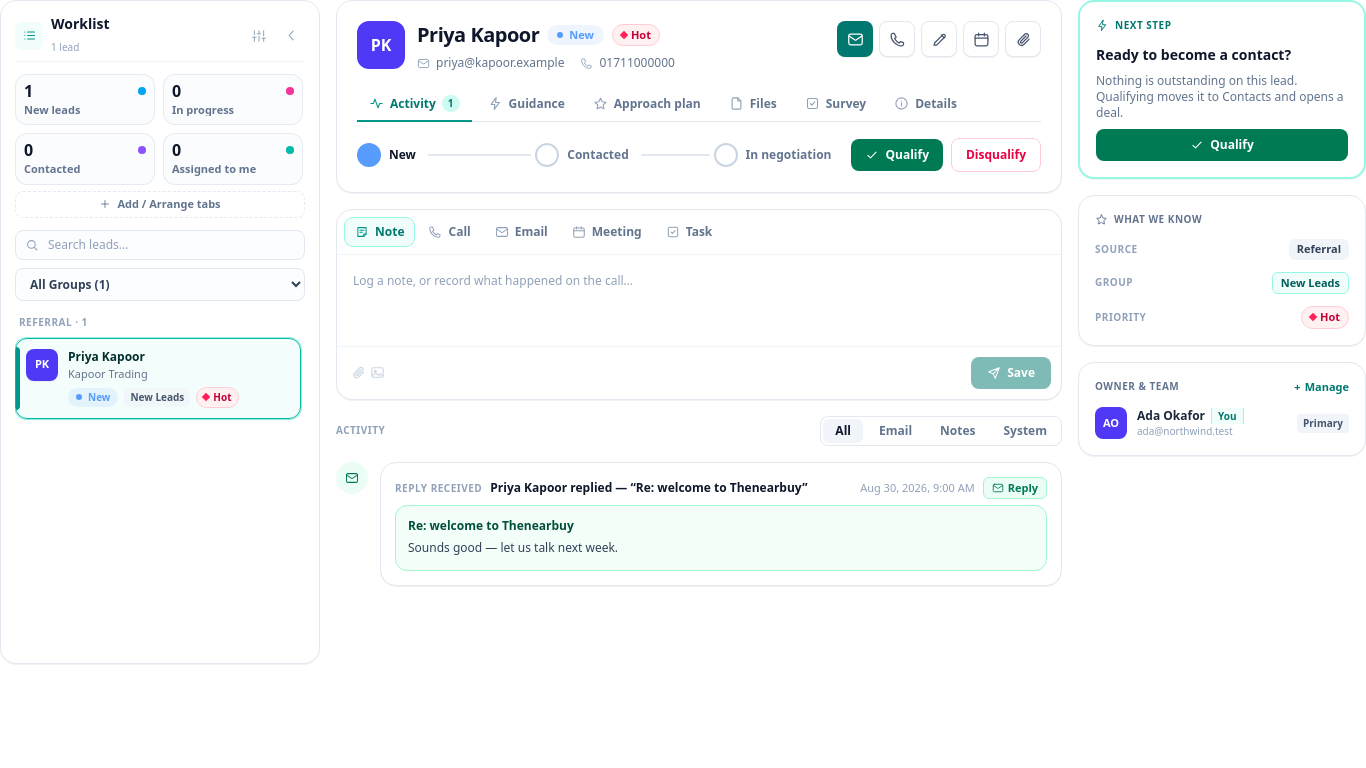
it: LeadWorkspace › the Activity feed › shows a received reply as its own entry and opens a threaded reply from it
Check: the text "Priya Kapoor replied — “Re: welcome to Thenearbuy”" is shown, box top-left (490, 480), bottom-right (807, 496)
Check: the text "Sounds good — let us talk next week." is shown, box top-left (408, 539), bottom-right (618, 556)
Click the button "Reply" at point(1015, 488), box top-left (983, 477), bottom-right (1047, 499)
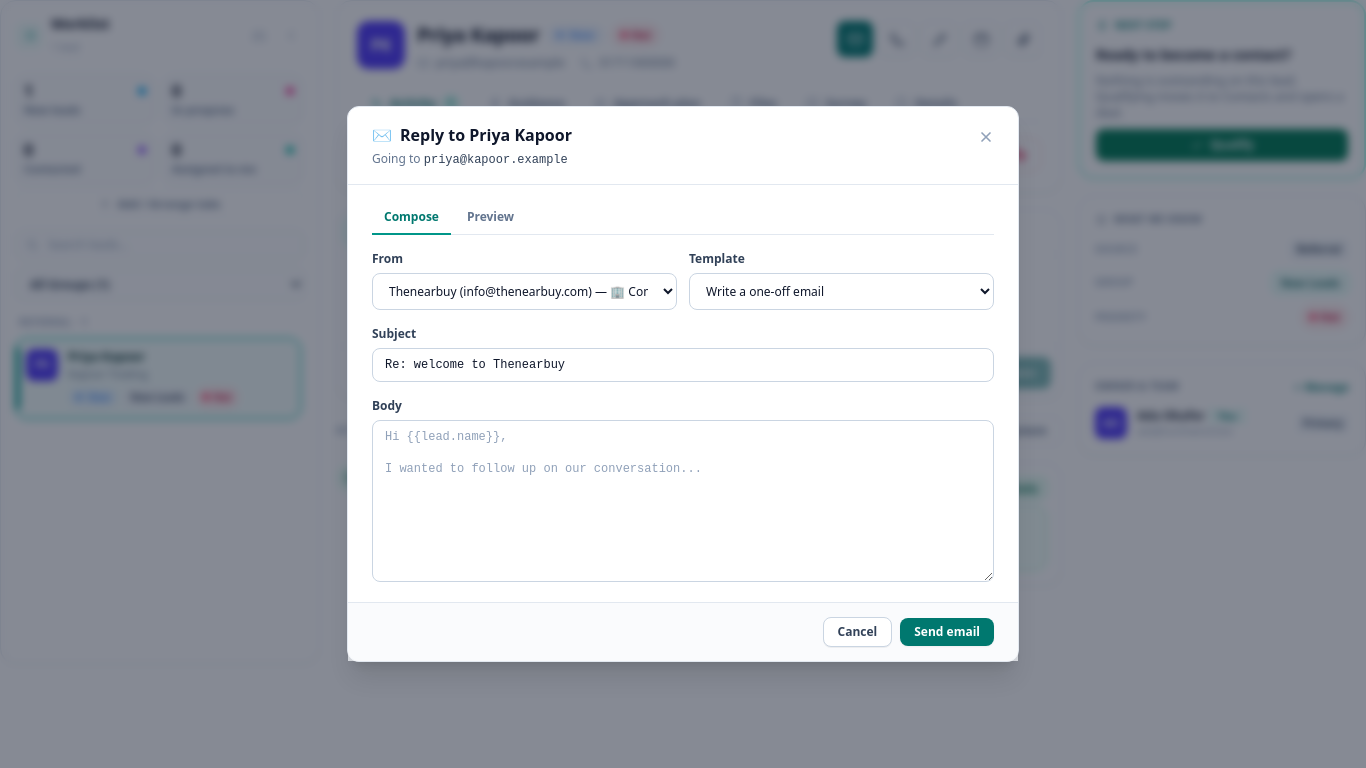
Check: the heading "✉️ Reply to Priya Kapoor" is shown, box top-left (372, 123), bottom-right (572, 147)
Check: the field showing "Re: welcome to Thenearbuy" is shown, box top-left (372, 348), bottom-right (994, 382)
